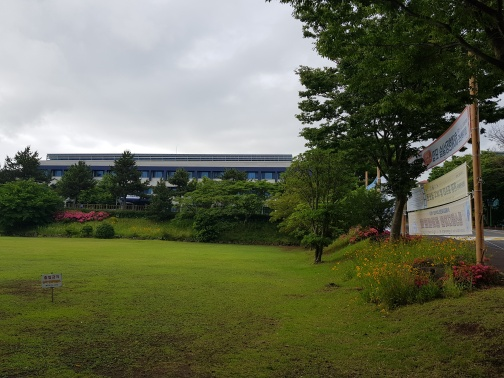College of Social Sciences: (42, 147, 298, 192)
